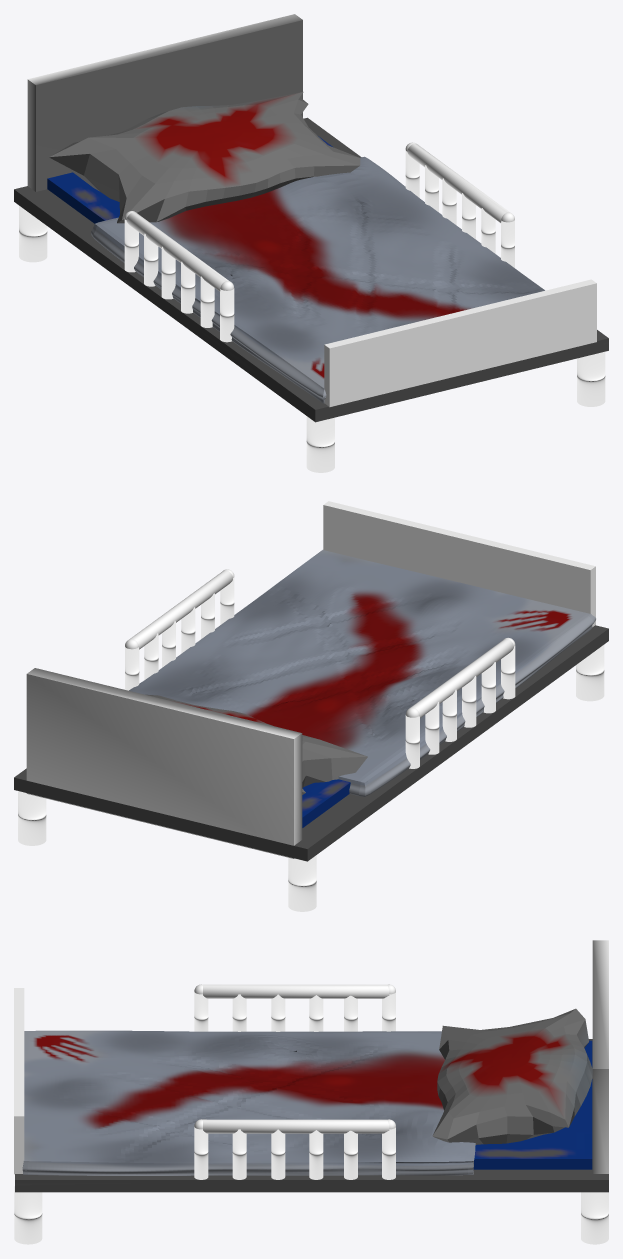
Rendered from Blender camilla de hospital original.fbx.
3 renders of one model, top to bottom at view 1: azimuth 30°, elevation 25°; view 2: azimuth 150°, elevation 25°; view 3: azimuth 270°, elevation 25°, orthographic.
Parts seen in each view (by area): view 1: Base cama, Cobija cama xd, Almohada, Colchon cama; view 2: Base cama, Cobija cama xd, Almohada, Colchon cama; view 3: Cobija cama xd, Base cama, Almohada, Colchon cama.
Boxes of the visible parts, left/top/right/bottom form: Base cama: left=14, top=14, right=608, bottom=472; Cobija cama xd: left=91, top=156, right=544, bottom=403; Almohada: left=49, top=92, right=360, bottom=223; Colchon cama: left=47, top=136, right=333, bottom=223; Base cama: left=14, top=501, right=608, bottom=911; Cobija cama xd: left=129, top=550, right=595, bottom=796; Almohada: left=145, top=694, right=367, bottom=794; Colchon cama: left=302, top=779, right=350, bottom=827; Cobija cama xd: left=22, top=1030, right=475, bottom=1175; Base cama: left=14, top=940, right=608, bottom=1244; Almohada: left=432, top=1008, right=592, bottom=1144; Colchon cama: left=473, top=1040, right=592, bottom=1169.
Bounding box in the file's own units: 11.96 × 6.65 × 21.21.
